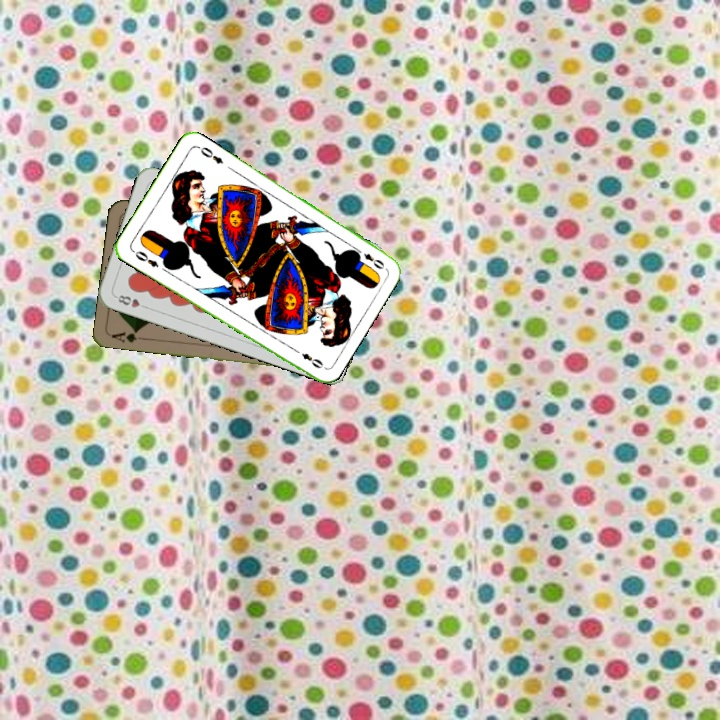EO: (351, 244, 387, 272), (128, 246, 161, 270)
GA: (107, 326, 148, 345)
H8: (111, 291, 151, 311)
